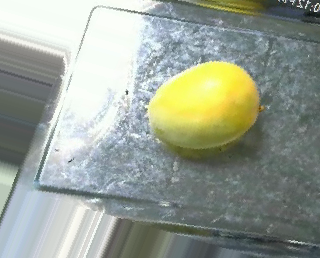Mango: (143, 53, 270, 153)
